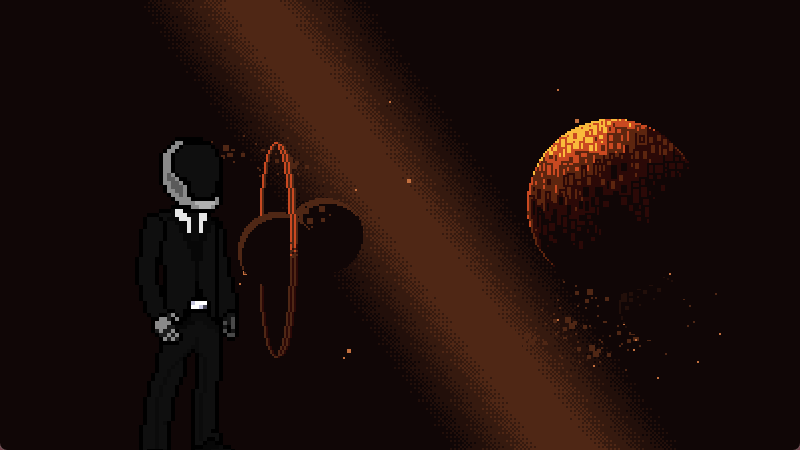next_screen: (5, 6, 796, 442)
